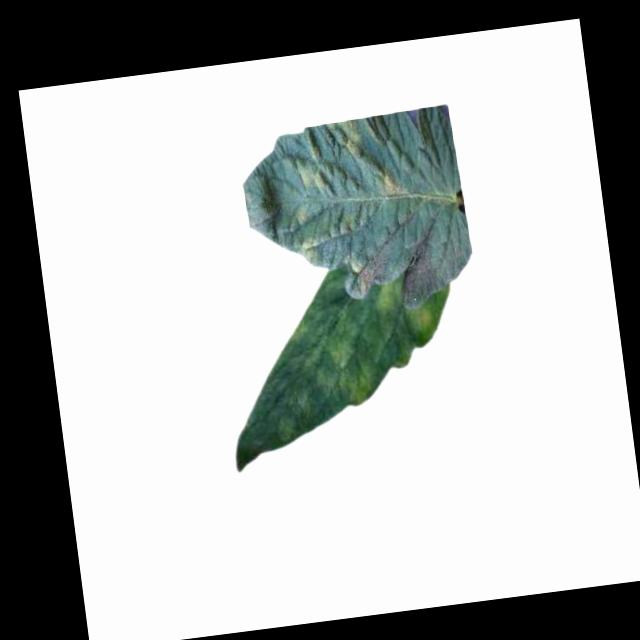Leaf_Mold: (313, 311, 358, 373), (323, 117, 367, 162), (368, 273, 407, 316), (292, 155, 329, 194), (339, 365, 374, 406), (373, 167, 405, 202), (295, 233, 329, 265), (406, 302, 436, 335), (289, 200, 316, 229)
